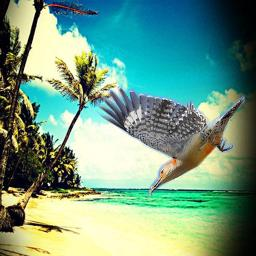Woodpecker: (96, 86, 245, 197)
